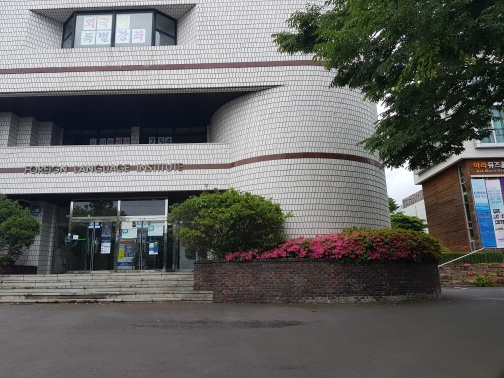Foreign Language Institute: (2, 7, 405, 310), (13, 129, 236, 305), (38, 3, 192, 54), (20, 154, 187, 180)
